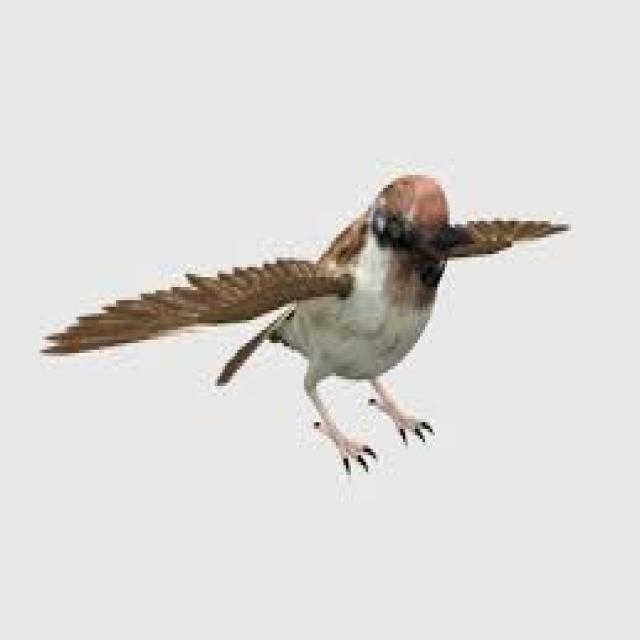bird: (44, 173, 587, 488)
